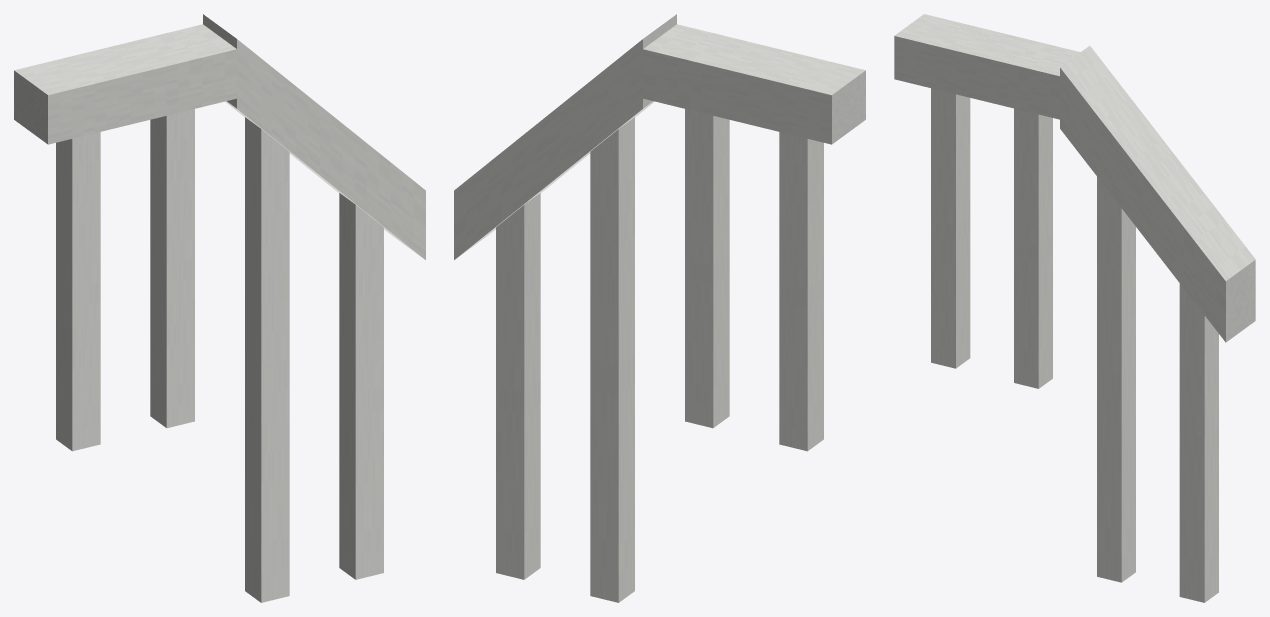
File: top_neg.obj
3 renders of one model, left to right at view 1: azimuth 30°, elevation 25°; view 2: azimuth 150°, elevation 25°; view 3: azimuth 330°, elevation 25°, orthographic. The views are drawn at different scales.
Parts seen in each view (by area): view 1: railing_baluster_white_top_neg; view 2: railing_baluster_white_top_neg; view 3: railing_baluster_white_top_neg.
Part boxes in pixels (x1,y1,x2,y2): railing_baluster_white_top_neg: (14,14,425,602); railing_baluster_white_top_neg: (454,14,865,602); railing_baluster_white_top_neg: (894,14,1255,602).
Bounding box in the file's own units: 1 × 1.46 × 0.1562.
